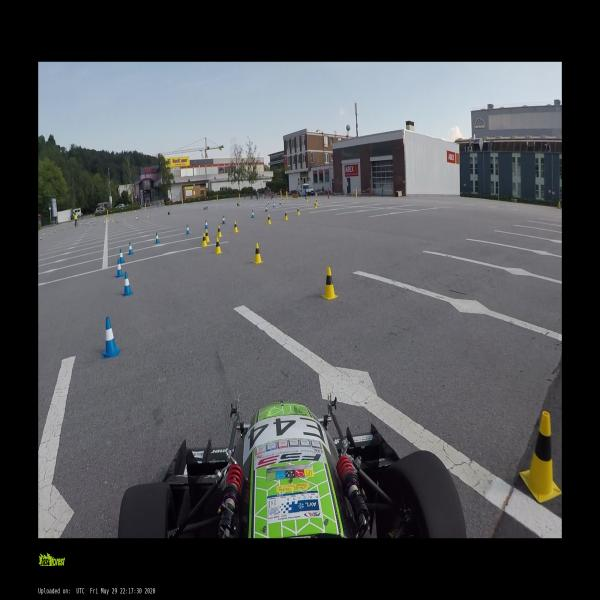blue_cone: (102, 318, 118, 355), (122, 271, 132, 296), (115, 259, 123, 277), (118, 248, 124, 262), (128, 242, 133, 255), (155, 232, 160, 244), (185, 224, 190, 235), (250, 210, 255, 219), (222, 215, 226, 224), (204, 220, 208, 229), (264, 205, 268, 212), (272, 201, 276, 208), (267, 199, 270, 204), (279, 199, 281, 205)
yellow_cone: (520, 410, 562, 501), (320, 267, 338, 301), (252, 242, 263, 264), (213, 237, 222, 254), (200, 231, 208, 248), (216, 224, 223, 238), (204, 229, 210, 242), (266, 214, 272, 225), (233, 221, 238, 233), (284, 211, 288, 220), (296, 208, 300, 215), (314, 202, 317, 209), (315, 198, 318, 204), (306, 197, 308, 202), (281, 198, 283, 202)
